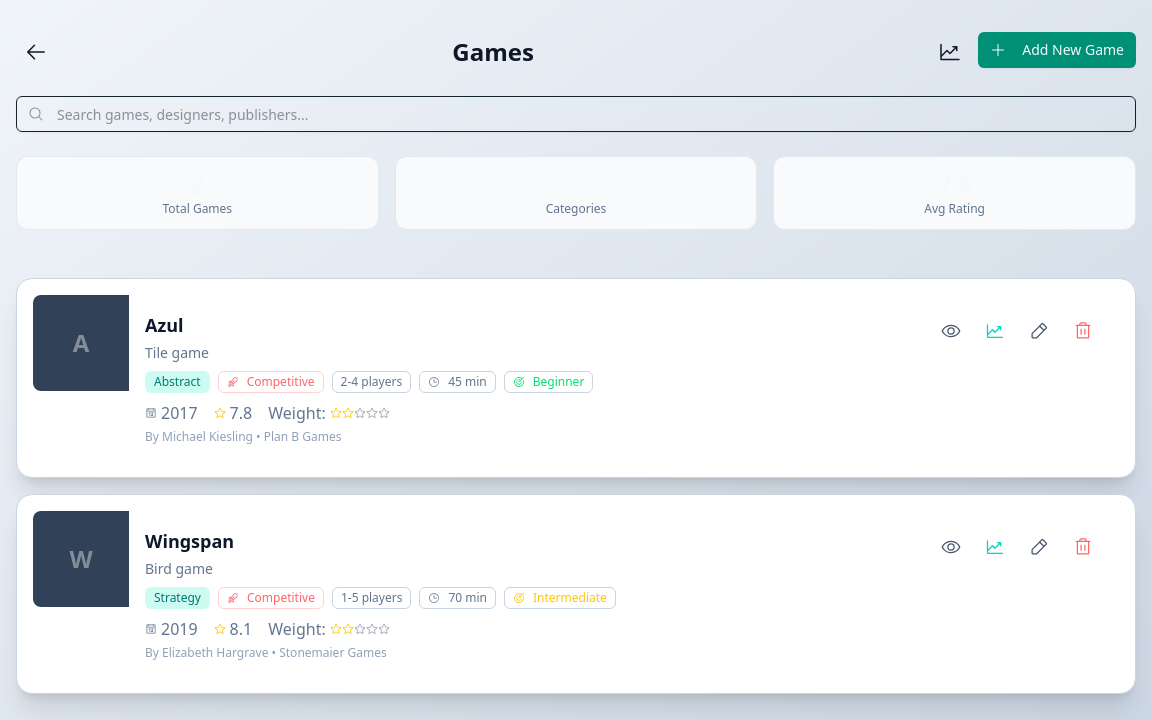
Test case: GamesPage — flux CRUD › ouvre le dialog d'ajout
The image size is (1152, 720).
Expected: the heading "Wingspan" is shown, x1=145 y1=529 x2=234 y2=553
// Deux boutons "Add new game" coexistent (desktop trigger + FAB mobile) — on prend le premier (DialogTrigger)
Click the button "Add New Game": (1057, 50) x1=978 y1=32 x2=1136 y2=68
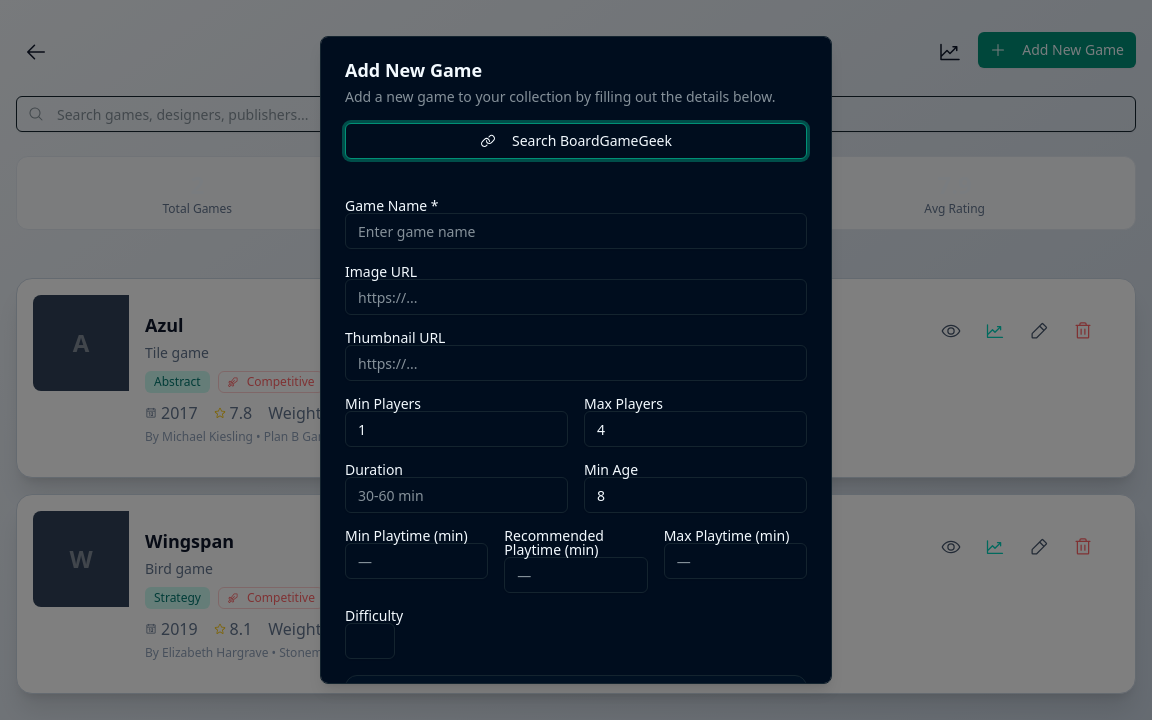
Result: the dialog is shown at x1=320 y1=36 x2=832 y2=684
